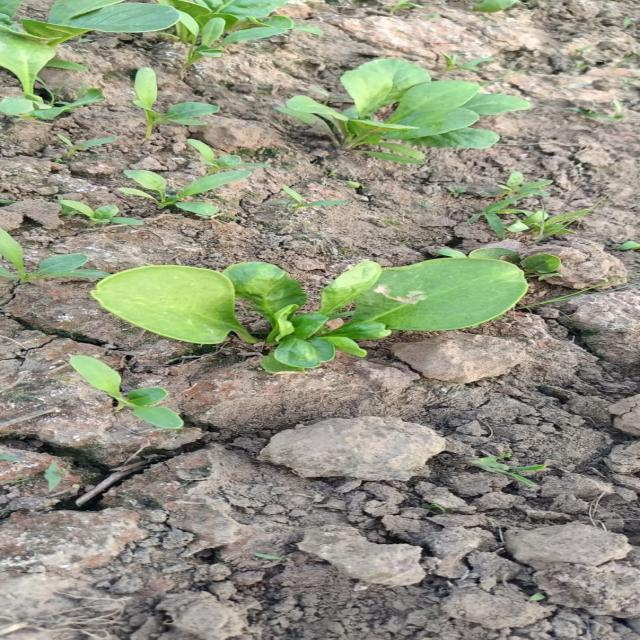plant: (90, 250, 526, 373), (278, 58, 528, 163), (68, 357, 181, 428)
